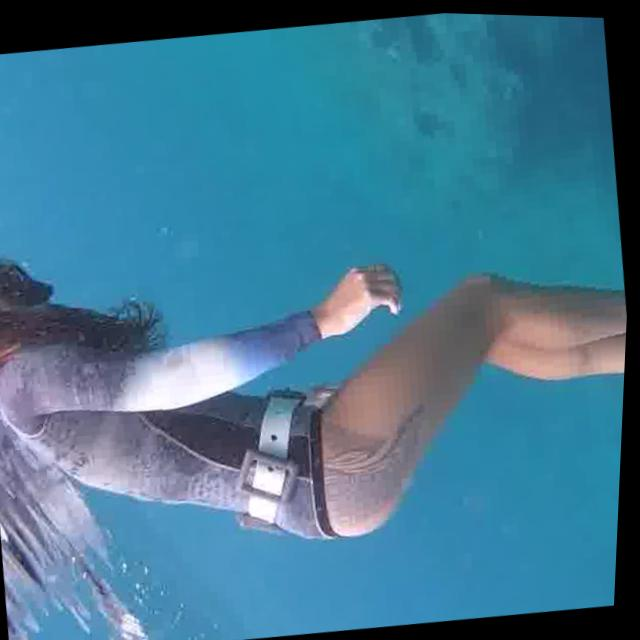human: (0, 162, 634, 594)
